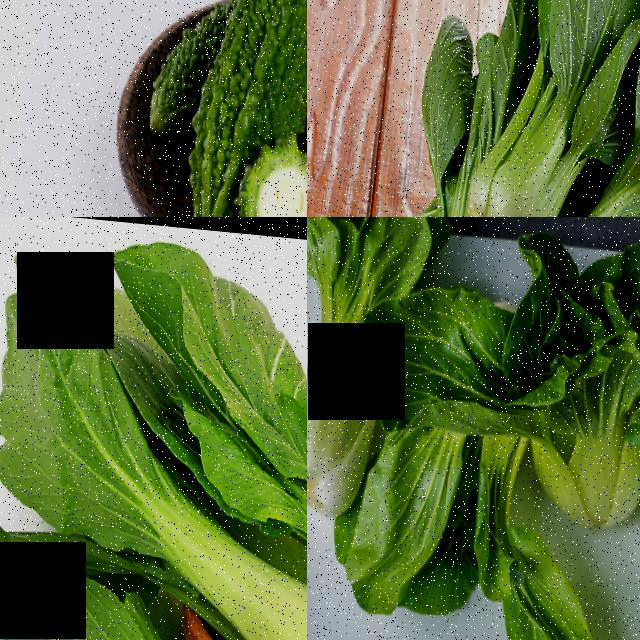bitter gourd: (202, 0, 307, 141), (242, 143, 307, 217)
bok choy: (509, 0, 609, 217), (307, 217, 372, 485), (0, 552, 191, 640), (514, 84, 640, 217), (235, 392, 307, 574), (332, 172, 405, 217), (425, 172, 474, 217)
